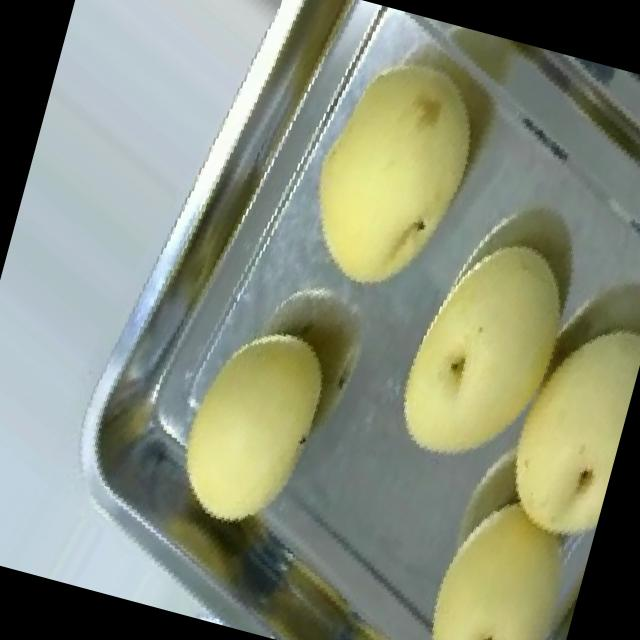Fruit: (262, 3, 532, 336), (362, 198, 615, 506), (136, 290, 370, 564), (460, 278, 640, 563), (390, 461, 602, 640)
